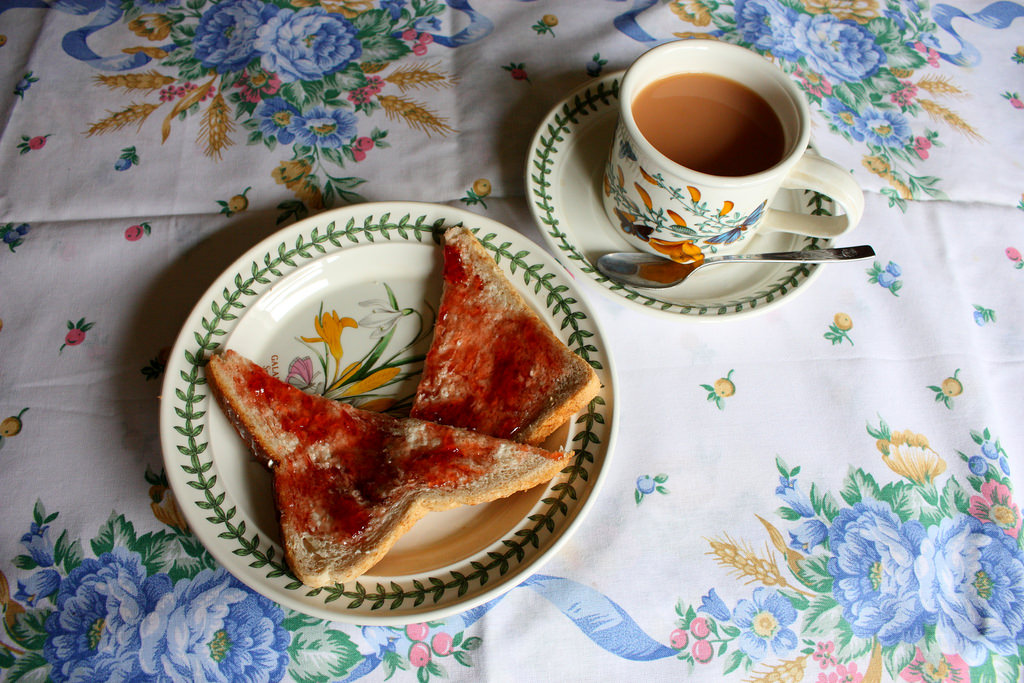slice of bread: (209, 325, 550, 538)
